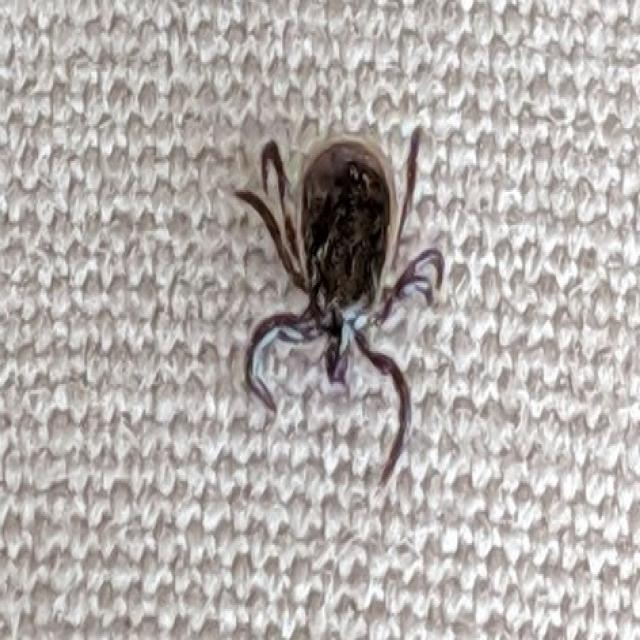Ixodes Ricinus-M: (235, 124, 449, 403), (357, 337, 411, 485)
